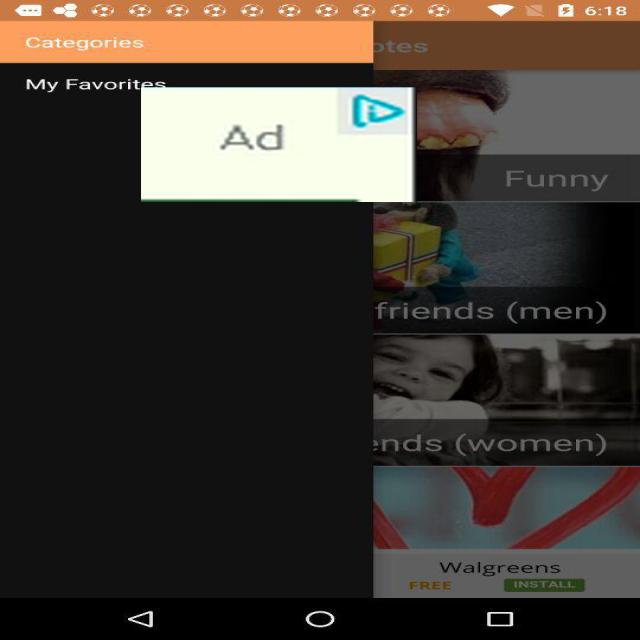sneaking: (141, 87, 417, 202)
